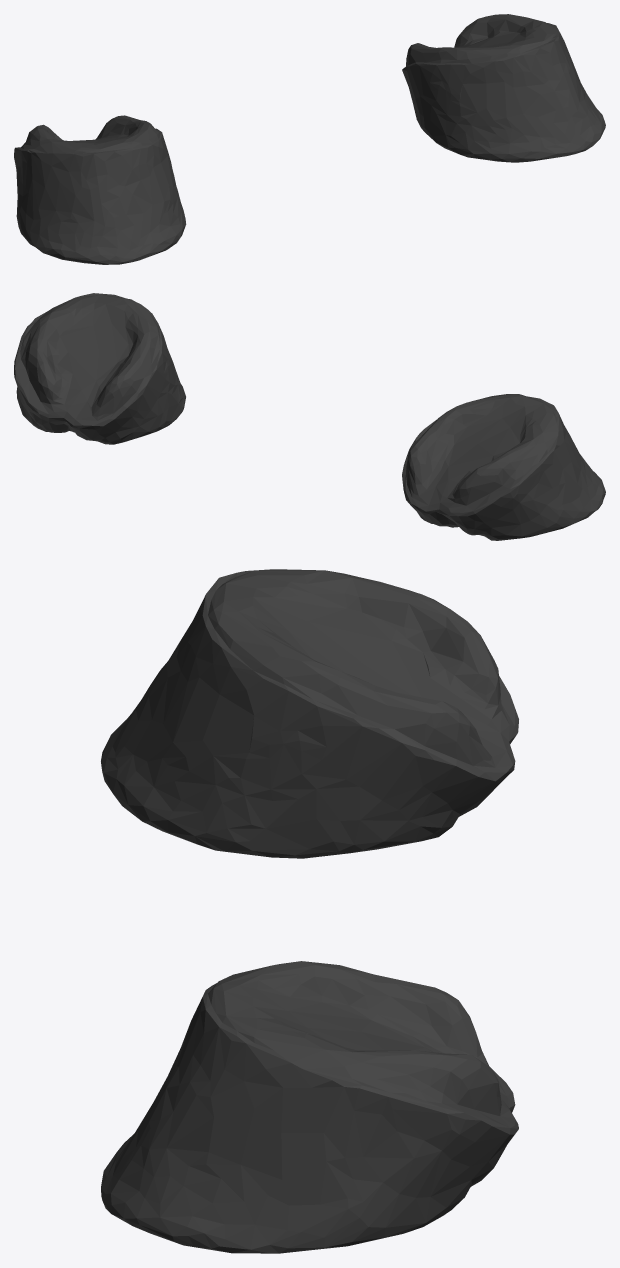
The model's file is hooves_HL.glb.
3 renders of one model, top to bottom at view 1: azimuth 30°, elevation 25°; view 2: azimuth 150°, elevation 25°; view 3: azimuth 270°, elevation 25°, orthographic. The views are drawn at different scales.
Visible parts, largest first — view 1: hooves_HL; view 2: hooves_HL; view 3: hooves_HL.
Part boxes in pixels (left/top/right/bottom): hooves_HL: left=14, top=14, right=605, bottom=264; hooves_HL: left=14, top=293, right=605, bottom=540; hooves_HL: left=101, top=569, right=518, bottom=1253.
Bounding box in the file's own units: 0.00733 × 0.00125 × 0.00237.
1 material, 1 textured.
